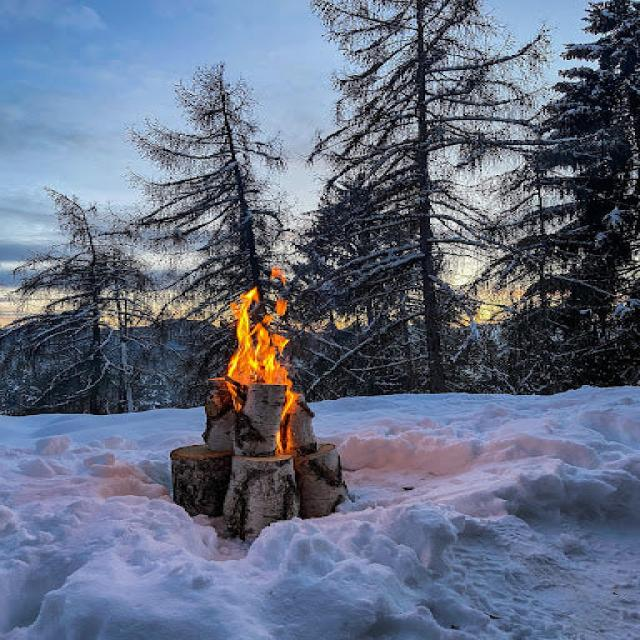fire: (227, 286, 259, 385), (259, 322, 293, 385), (276, 385, 303, 450)
